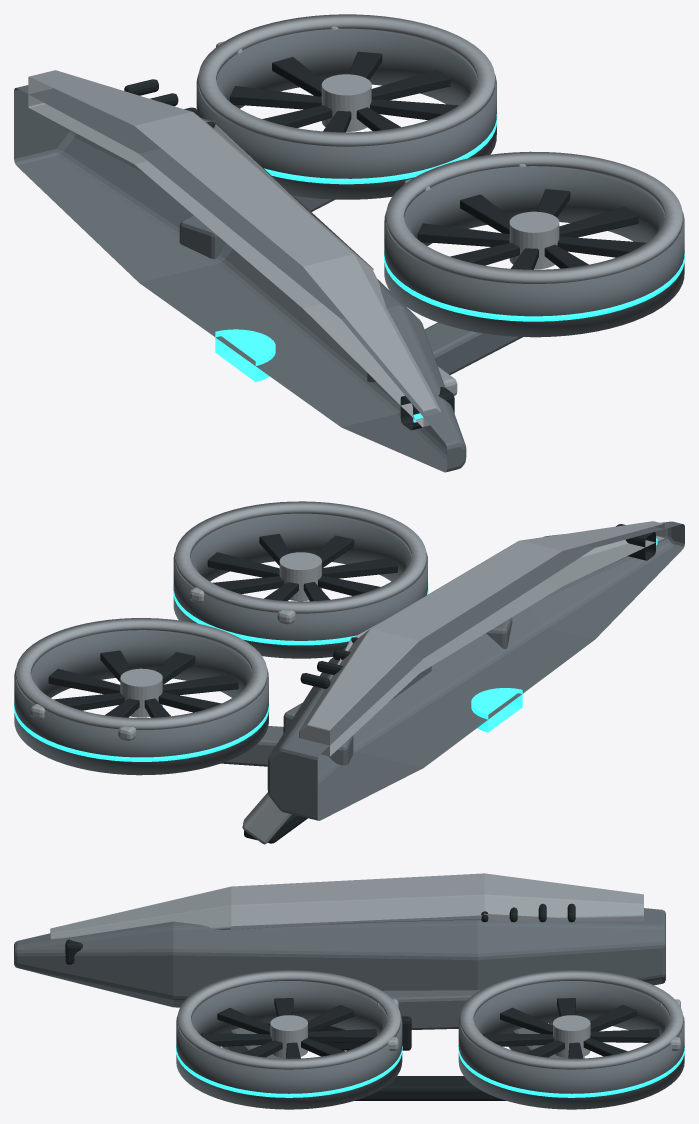
The model's file is security-proposal.glb.
The picture shows the model from 3 angles, top to bottom: view 1: azimuth 30°, elevation 25°; view 2: azimuth 150°, elevation 25°; view 3: azimuth 270°, elevation 25°; orthographic projection. The views are drawn at different scales.
Parts seen in each view (by area): view 1: Keel, Dorsal_Shell, Duct_0, Duct_1, Duct_Lip_1, Duct_Lip_0, Load_Boom_0, Center_Optic, Rotor_Hub_0, Rotor_Hub_1, Duct_Link_0, Load_Boom_1 (+11 smaller); view 2: Keel, Duct_1, Dorsal_Shell, Duct_0, Duct_Lip_0, Duct_Lip_1, Center_Optic, Load_Boom_1, Rotor_Hub_1, Rotor_Hub_0, Duct_Link_1, Landing_Strut.001 (+14 smaller); view 3: Keel, Dorsal_Shell, Duct_0, Duct_1, Duct_Lip_0, Duct_Lip_1, Weapon_Rail, Skid, Rotor_Hub_1, Rotor_Hub_0, Duct_Link_0, Duct_Link_1 (+13 smaller).
Part boxes in pixels (bbox=[...]): Keel: bbox=[14, 85, 466, 472]; Dorsal_Shell: bbox=[28, 70, 440, 427]; Duct_0: bbox=[384, 166, 684, 337]; Duct_1: bbox=[196, 28, 496, 199]; Duct_Lip_1: bbox=[198, 14, 494, 146]; Duct_Lip_0: bbox=[386, 151, 682, 283]; Load_Boom_0: bbox=[367, 322, 522, 382]; Center_Optic: bbox=[215, 329, 275, 381]; Rotor_Hub_0: bbox=[509, 211, 559, 269]; Rotor_Hub_1: bbox=[321, 74, 371, 131]; Duct_Link_0: bbox=[384, 250, 684, 321]; Load_Boom_1: bbox=[179, 196, 334, 258]; Keel: bbox=[267, 521, 684, 820]; Duct_1: bbox=[14, 630, 268, 775]; Dorsal_Shell: bbox=[299, 521, 664, 756]; Duct_0: bbox=[173, 513, 427, 658]; Duct_Lip_0: bbox=[175, 501, 426, 613]; Duct_Lip_1: bbox=[16, 618, 267, 729]; Center_Optic: bbox=[471, 688, 522, 732]; Load_Boom_1: bbox=[221, 726, 353, 766]; Rotor_Hub_1: bbox=[120, 668, 162, 717]; Rotor_Hub_0: bbox=[279, 552, 321, 601]; Duct_Link_1: bbox=[14, 701, 269, 761]; Landing_Strut.001: bbox=[242, 792, 291, 844]; Keel: bbox=[14, 908, 665, 1007]; Dorsal_Shell: bbox=[50, 873, 643, 939]; Duct_0: bbox=[176, 981, 402, 1109]; Duct_1: bbox=[458, 981, 684, 1109]; Duct_Lip_0: bbox=[177, 970, 400, 1069]; Duct_Lip_1: bbox=[460, 970, 683, 1069]; Weapon_Rail: bbox=[382, 989, 480, 1029]; Skid: bbox=[354, 1076, 506, 1100]; Rotor_Hub_1: bbox=[553, 1015, 590, 1058]; Rotor_Hub_0: bbox=[270, 1015, 307, 1058]; Duct_Link_0: bbox=[176, 1044, 402, 1097]; Duct_Link_1: bbox=[458, 1045, 684, 1097].
Bounding box in the file's own units: 2.4 × 1.31 × 4.63.
